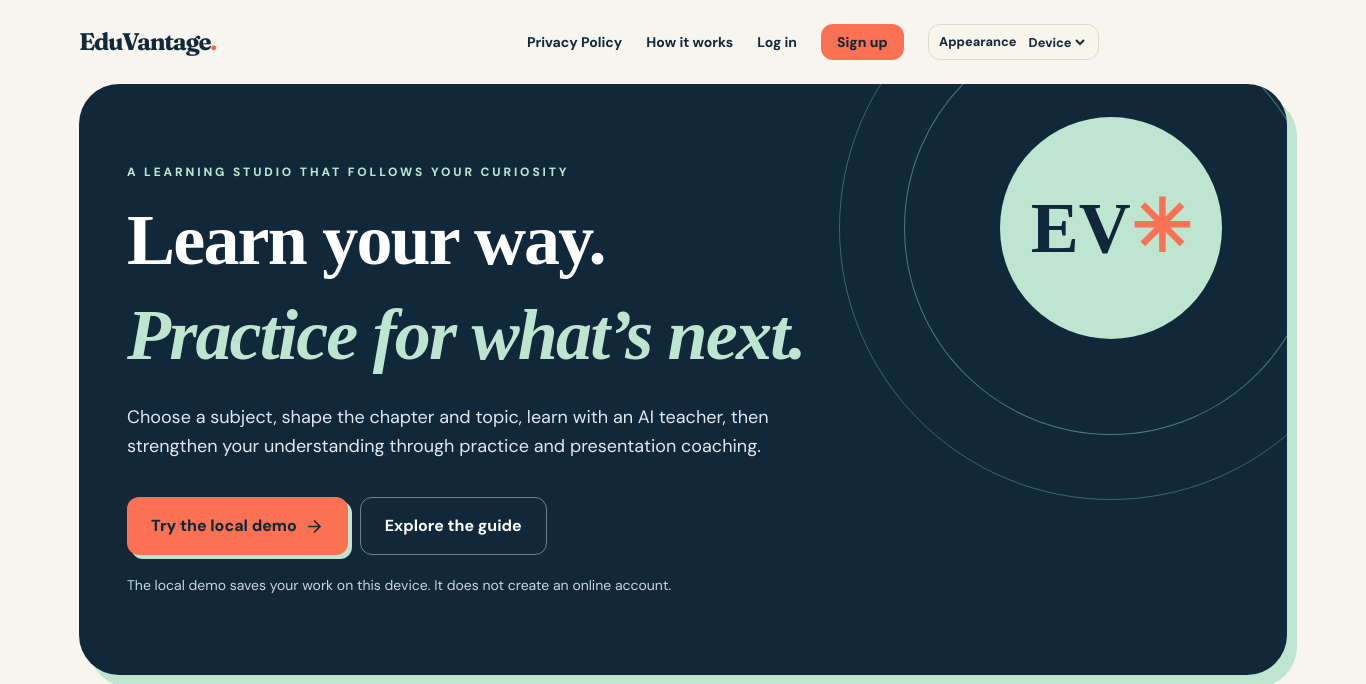
Test: a first-time visitor sees the public home before the local profile form
The width and height of the screenshot is (1366, 684).
Expected: the heading "Learn your way. Practice for what’s next." is shown, left=127, top=204, right=895, bottom=379
Expected: the field labelled "Full name *" is not shown
Click the button "Try the local demo" at {"x": 237, "y": 526}, box left=127, top=497, right=348, bottom=555
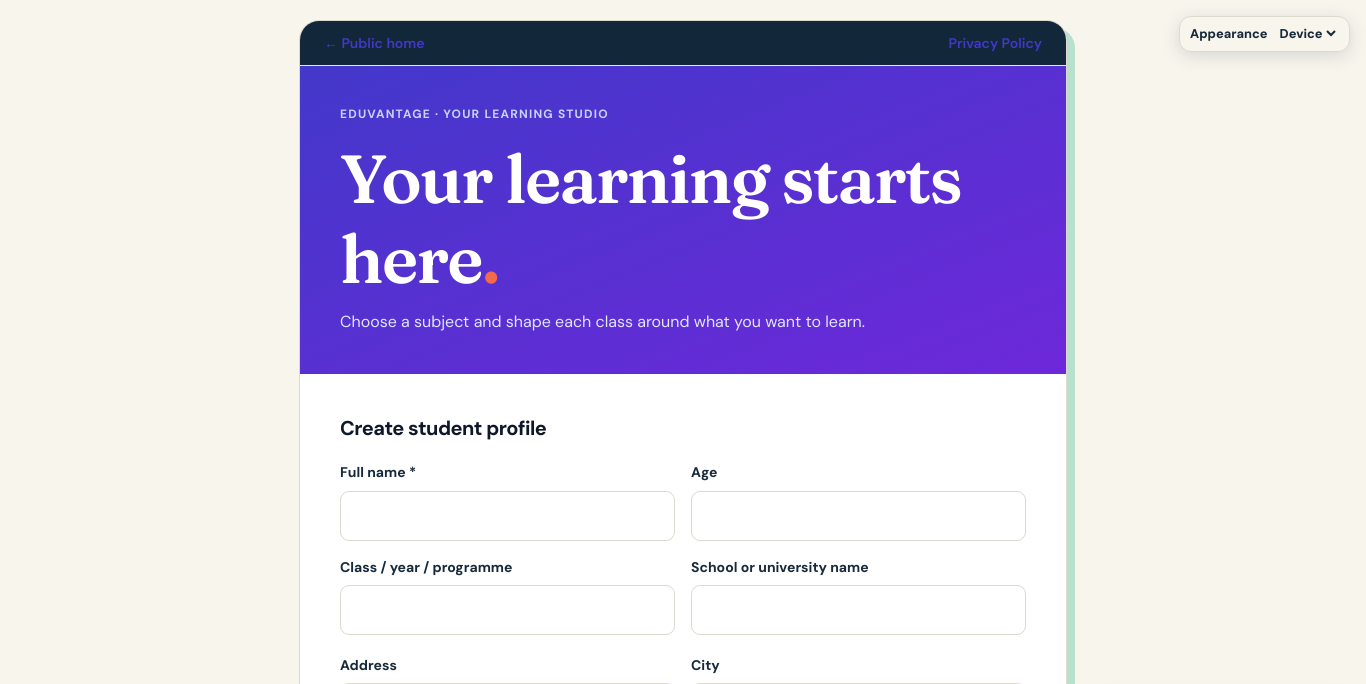
Now the field labelled "Full name *" is shown, box left=340, top=491, right=675, bottom=541
Click the button "← Public home" at {"x": 374, "y": 43}, box left=324, top=33, right=425, bottom=53
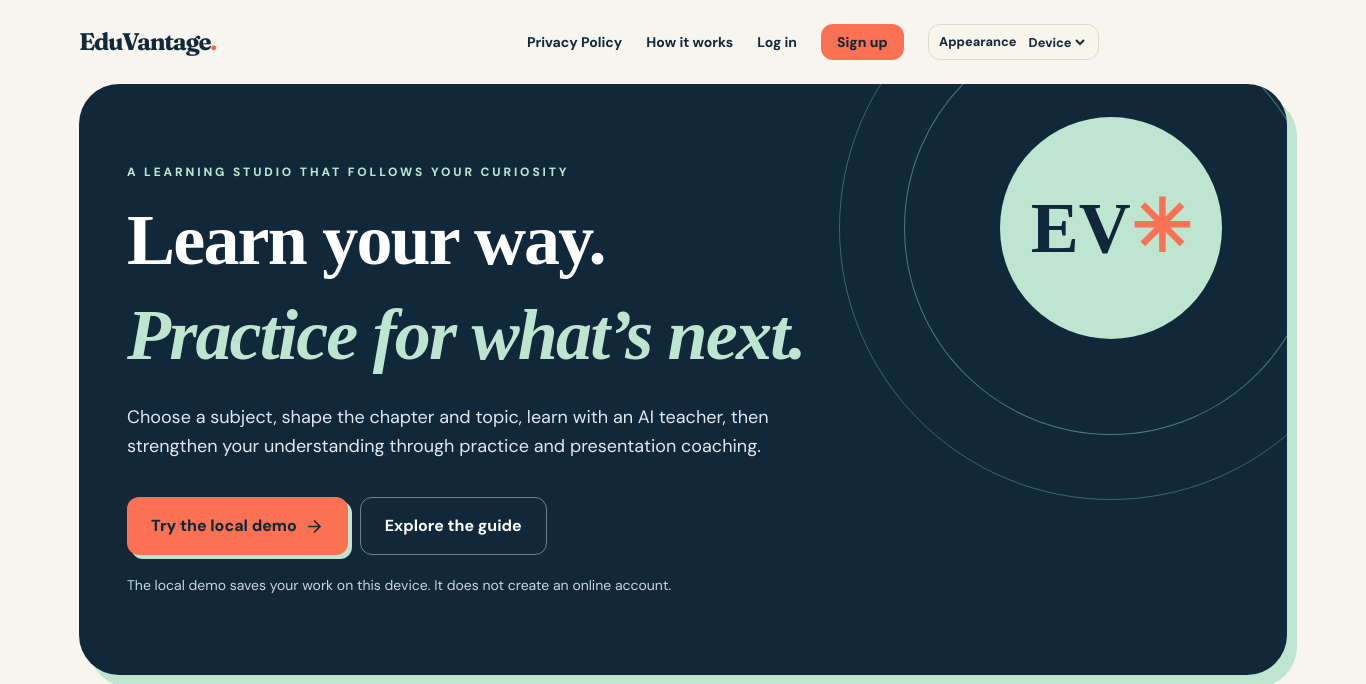
Now the heading "Learn your way. Practice for what’s next." is shown, box left=127, top=204, right=895, bottom=379
